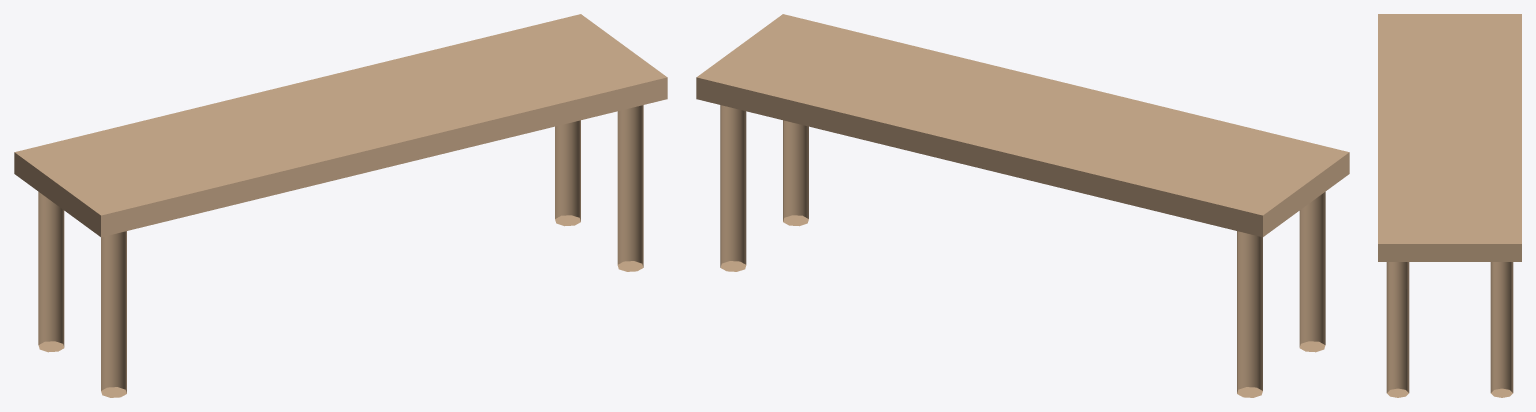
Rendered from bench_07.glb.
The picture shows the model from 3 angles, left to right: view 1: azimuth 30°, elevation 25°; view 2: azimuth 150°, elevation 25°; view 3: azimuth 270°, elevation 25°; orthographic projection. The views are drawn at different scales.
Size of the model in its own units: 1.36 by 0.44 by 0.36.
